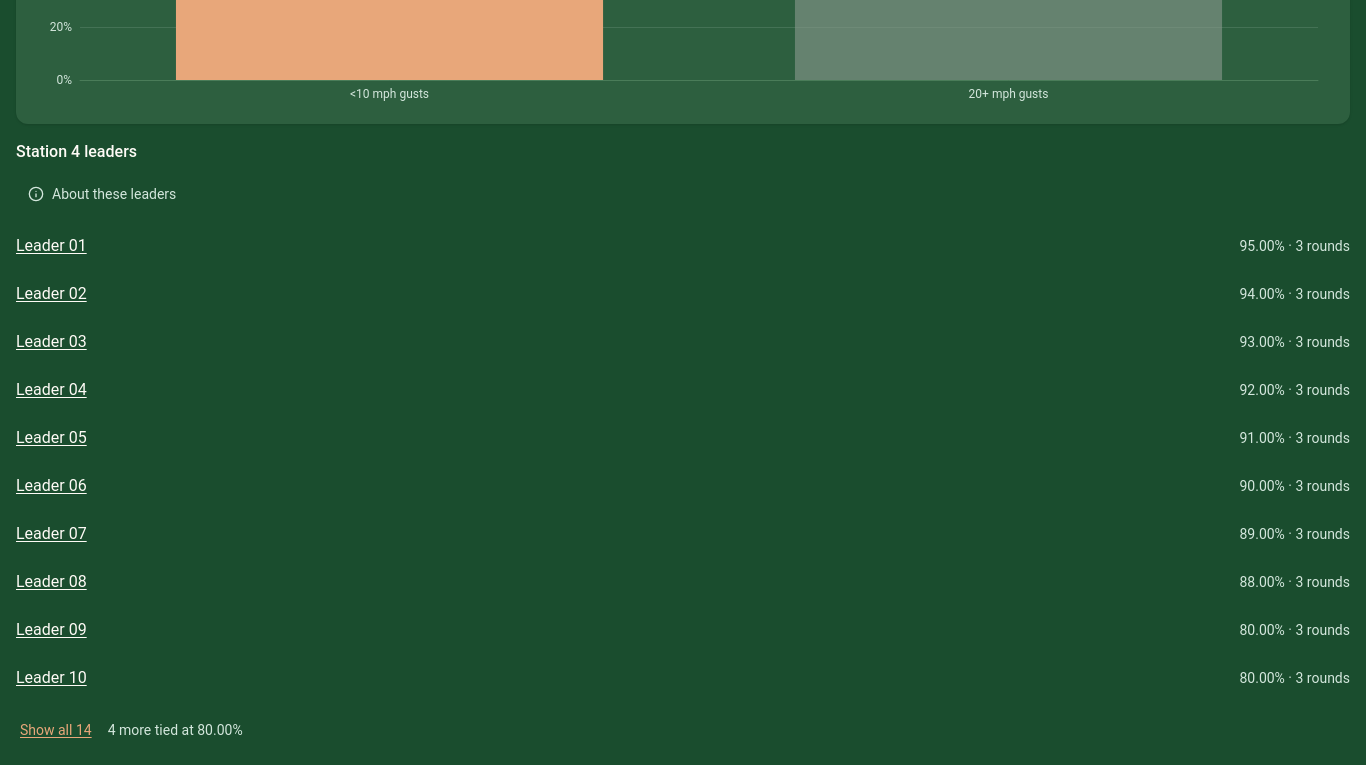
Test case: StationsPage › says how many leaders are tied when the cut at ten splits a tie
(page scrolled)
Expected: the text "4 more tied at 80.00%" is shown, [108, 720, 243, 740]
Click the button "Show all 14". click: x=56, y=730
box: [16, 708, 96, 752]
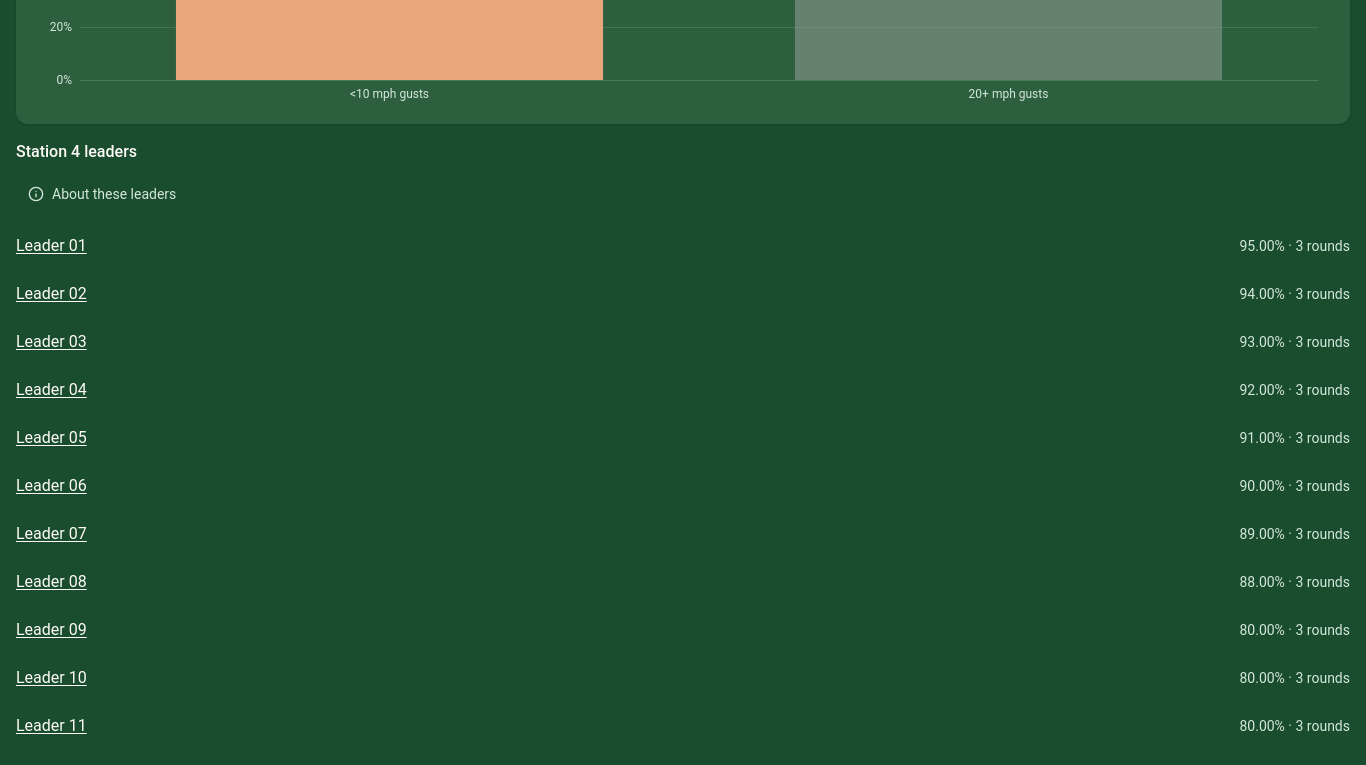
Expected: the text "more tied at" is gone
